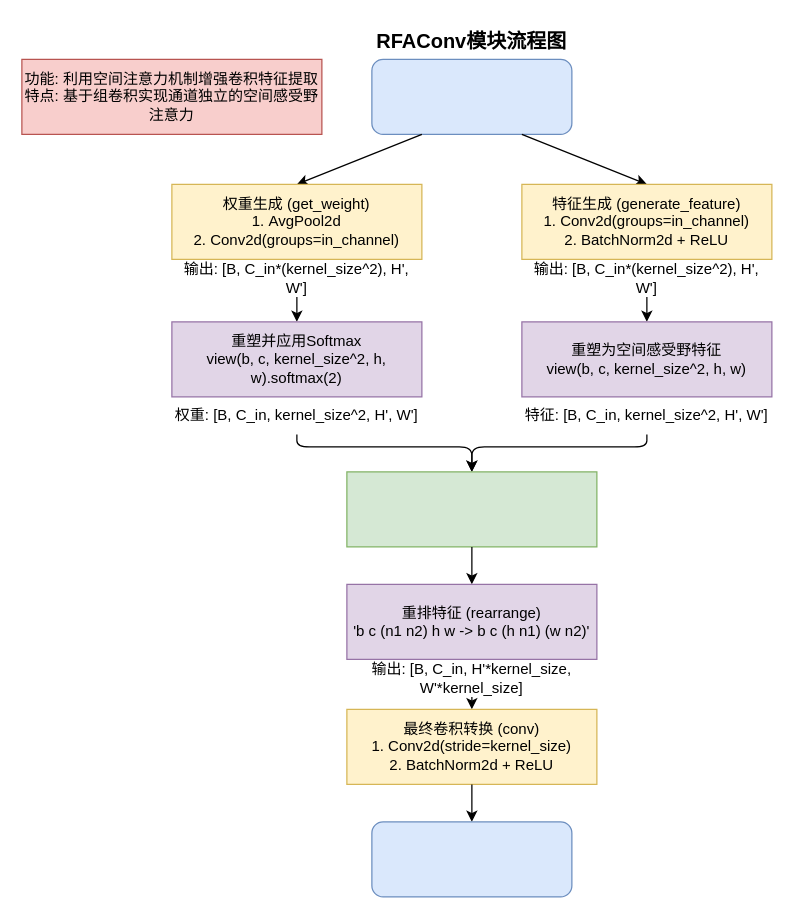
Some shapes in this 794 by 919 pixel diagram are drawn without their labels. Each missing label, with the box of its shape:
加权特征 (feature * weighted) [B, C_in, kernel_size^2, H', W']: (346, 471, 597, 547)
输入张量 x [B, C_in, H, W]: (371, 58, 572, 134)
输出张量 [B, C_out, H', W']: (371, 821, 572, 897)
